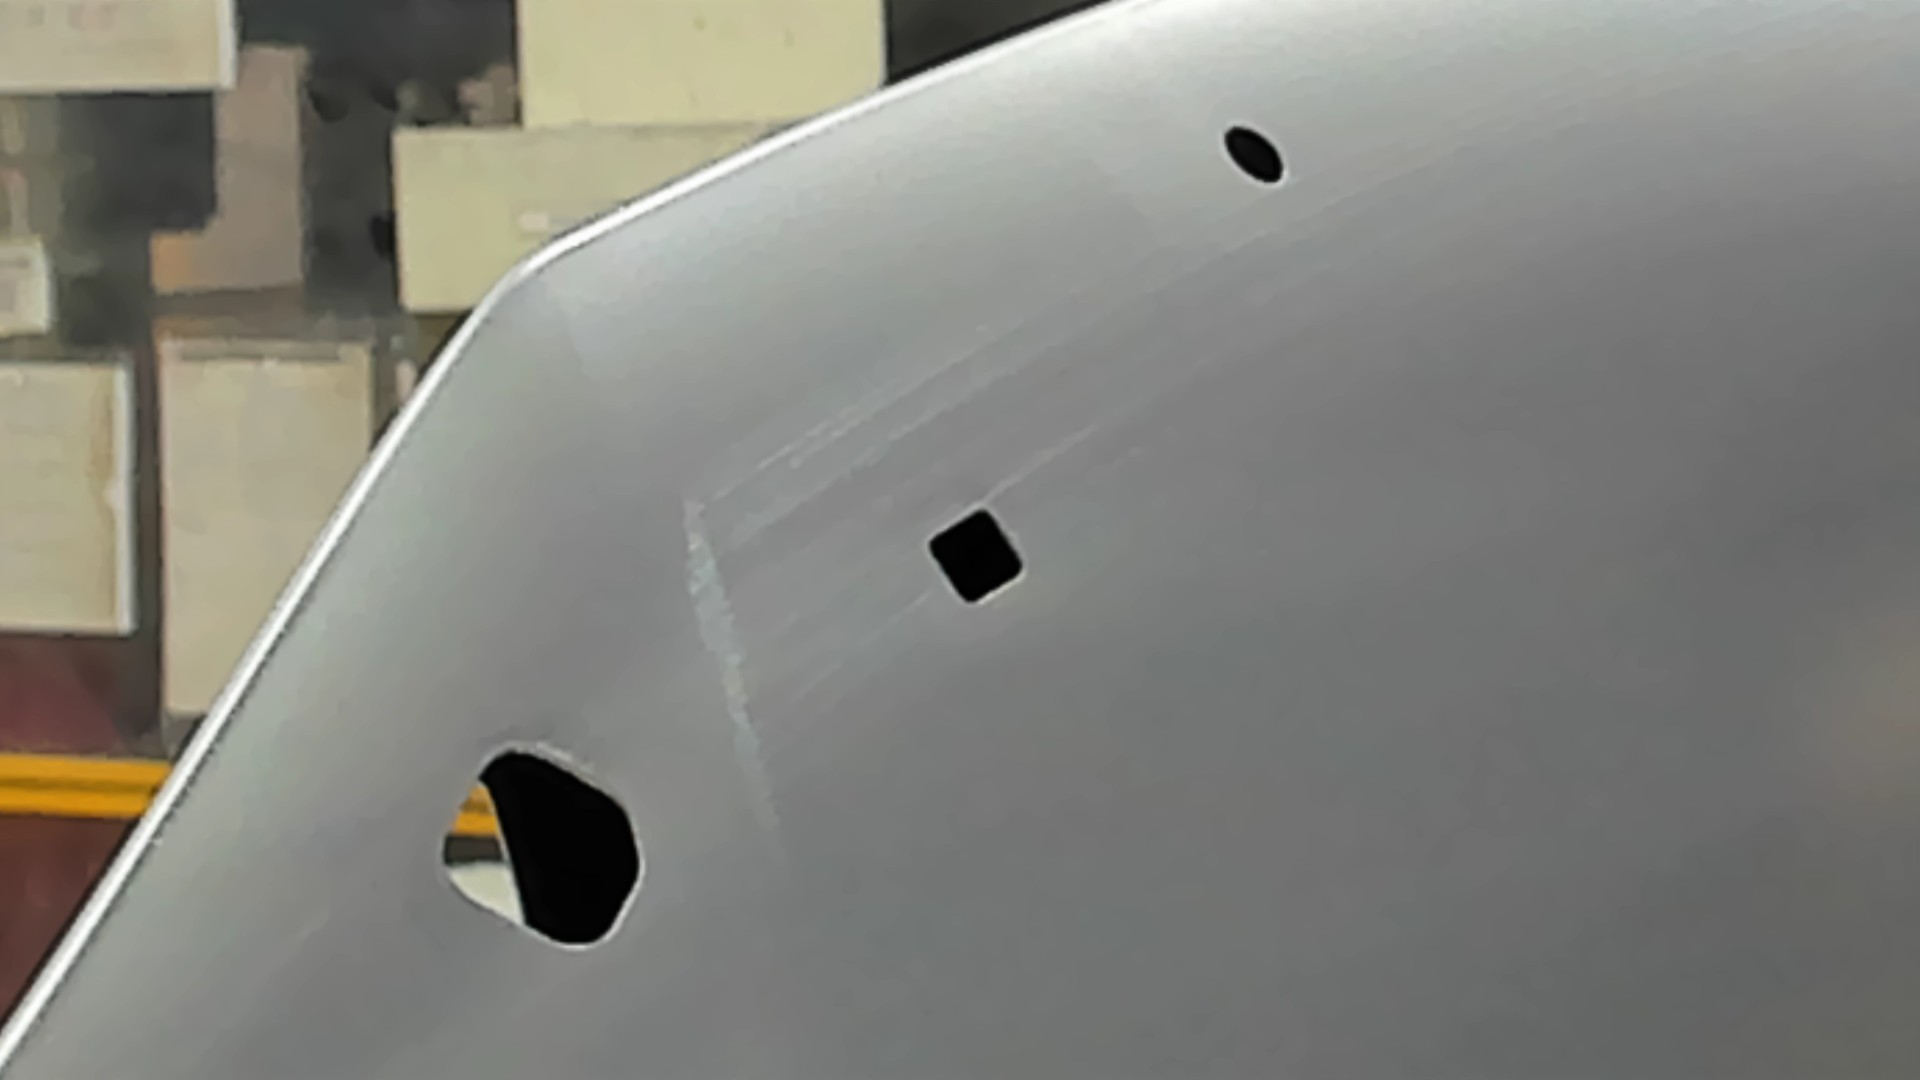chico: (1220, 120, 1290, 189)
grande: (439, 742, 647, 949)
mediano: (924, 504, 1029, 607)
